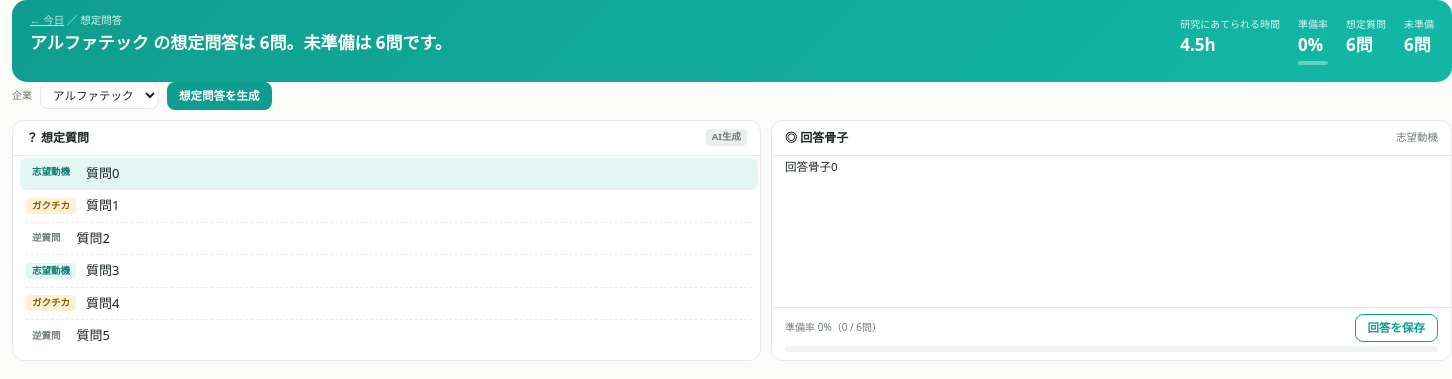
Test: 回答の編集と保存 › 編集して保存すると、その内容が PATCH され準備済みバッジが付く
Replace the text in the text box named "回答骨子" with "研究室で実験系を立ち上げた話をする" at {"x": 1114, "y": 228}, box [785,158,1443,299]
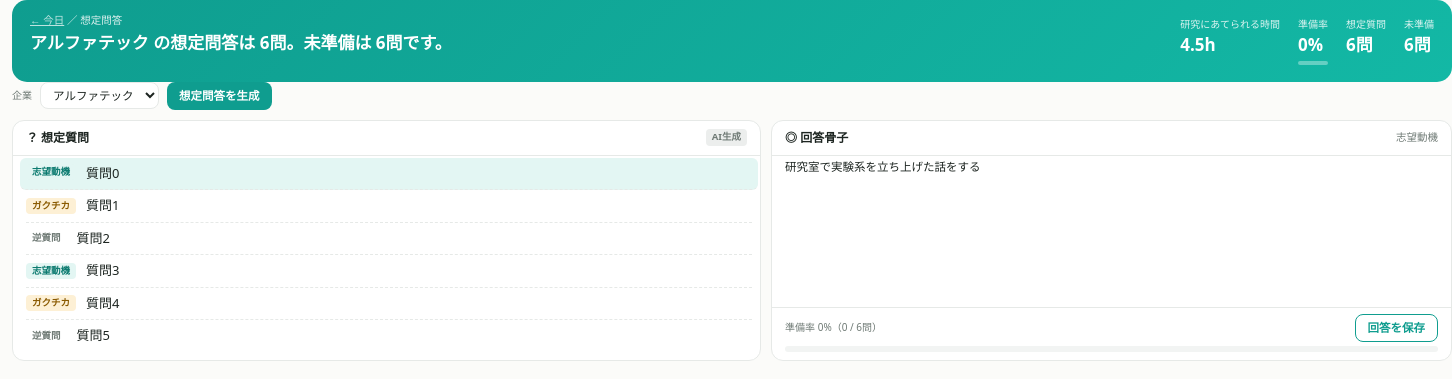
Click the button "回答を保存" at {"x": 1396, "y": 328}, box [1354,314,1438,342]
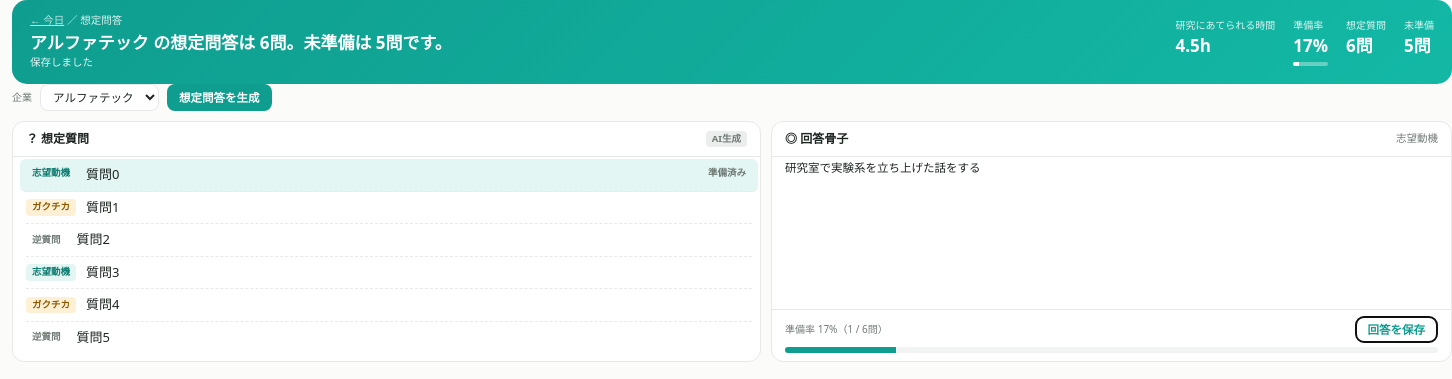
Expected: the text "準備済み" is shown, [708,166,746,179]
